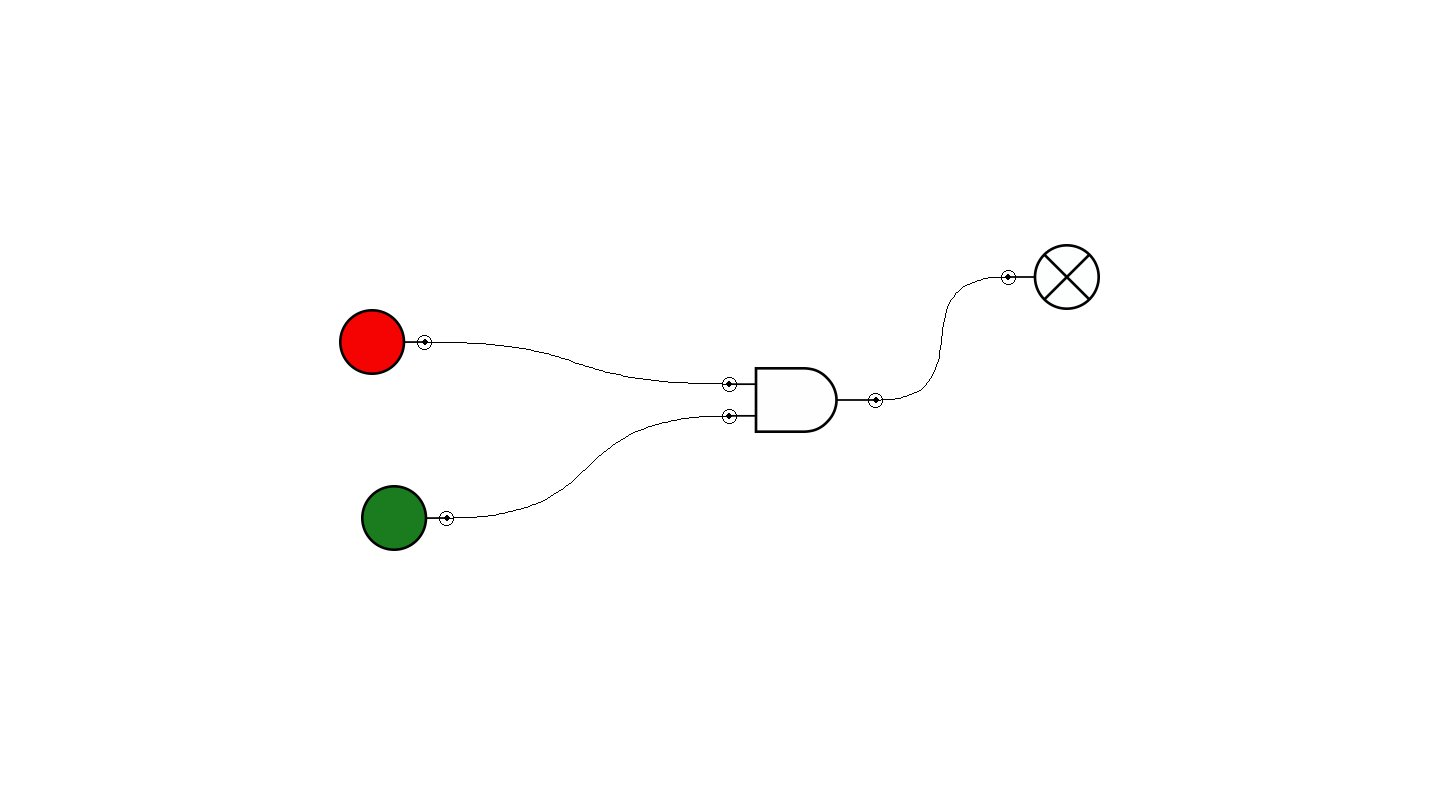and: (722, 367, 883, 433)
bulb: (1001, 244, 1100, 310)
switch_False: (339, 309, 432, 375)
switch_True: (361, 485, 454, 551)
